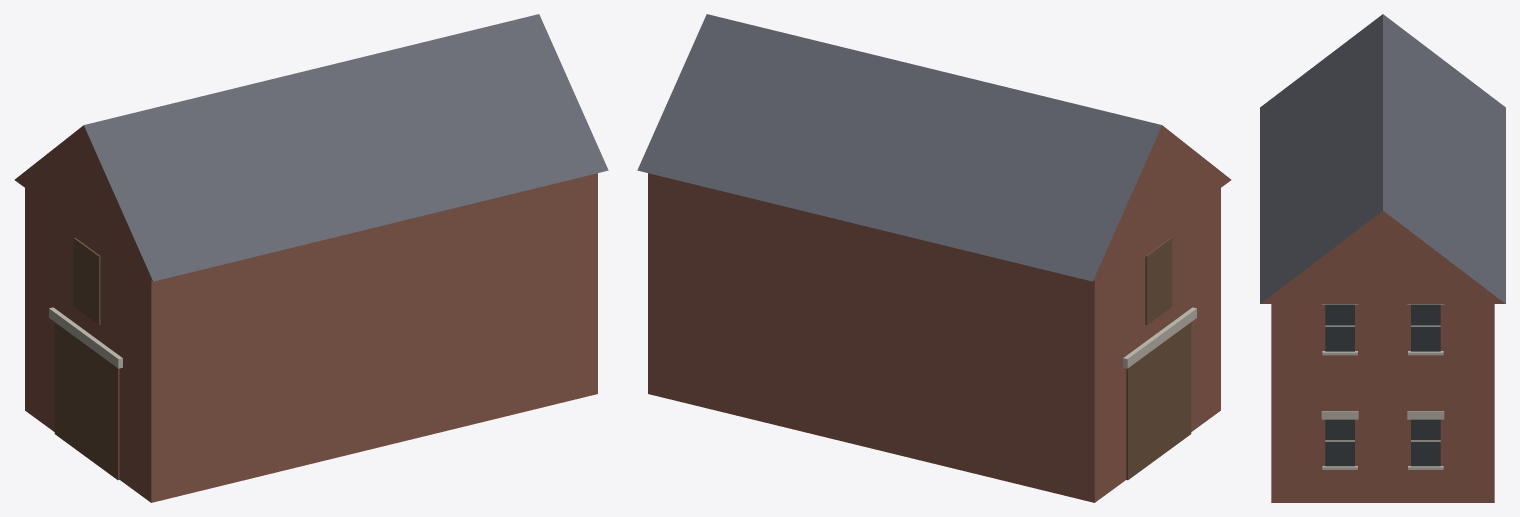
Rendered from house_1628_prairie_coach_house__draft_1904.glb.
The picture shows the model from 3 angles, left to right: view 1: azimuth 30°, elevation 25°; view 2: azimuth 150°, elevation 25°; view 3: azimuth 270°, elevation 25°; orthographic projection. The views are drawn at different scales.
Parts seen in each view (by area): view 1: house_1628_prairie_coach_house__draft_1904; view 2: house_1628_prairie_coach_house__draft_1904; view 3: house_1628_prairie_coach_house__draft_1904.
Boxes of the visible parts, left/top/right/bottom form: house_1628_prairie_coach_house__draft_1904: left=14, top=14, right=608, bottom=502; house_1628_prairie_coach_house__draft_1904: left=637, top=14, right=1231, bottom=502; house_1628_prairie_coach_house__draft_1904: left=1260, top=14, right=1505, bottom=502.
Size of the model in its own units: 12.49 by 8.72 by 6.6.
